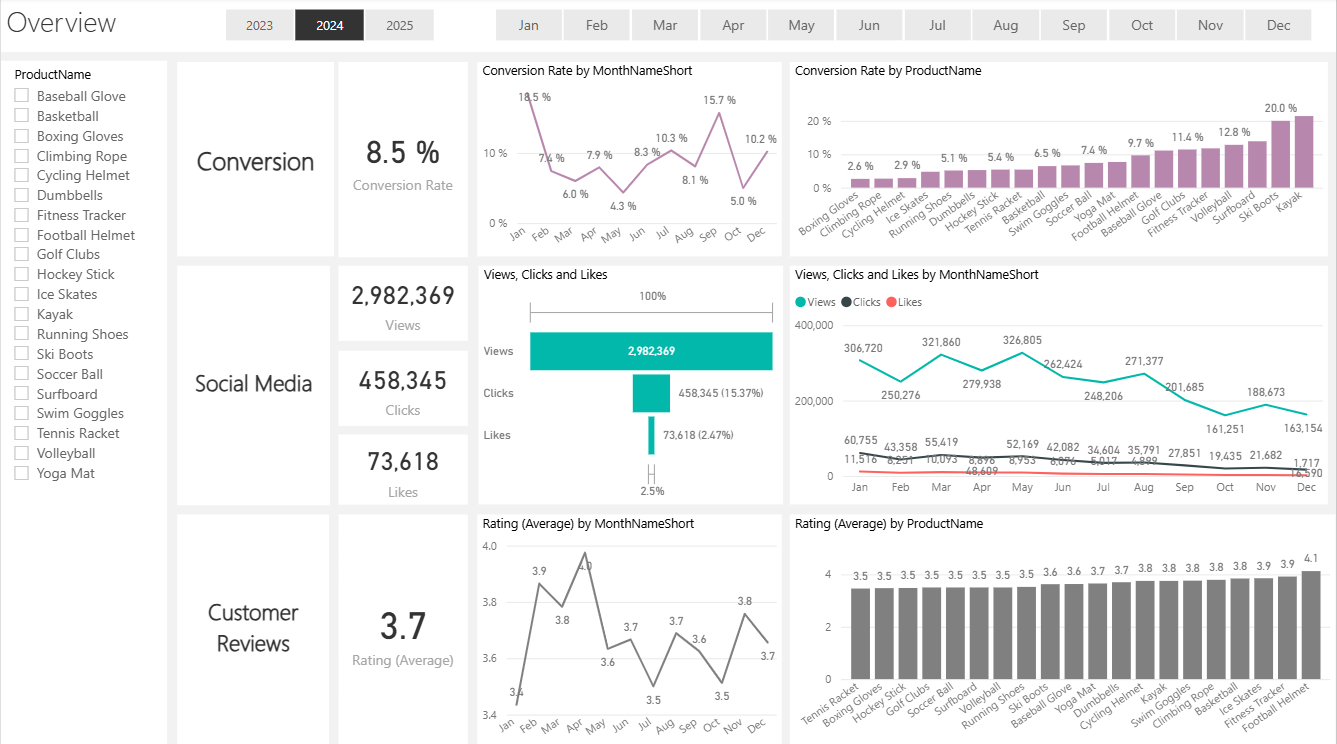

Layout of this report page (visuals, bound fields, positions):
{"tool":"powerbi","page":{"name":"Overview","canvas":[1280,720],"ordinal":0},"visuals":[{"type":"textbox","box":[0,0,1280,52.6],"z":0},{"type":"slicer","fields":{"Values":["dim_products.ProductName"]},"box":[0,61.6,159.5,658.5],"z":1000},{"type":"card","fields":{"Values":["_Calculations.Conversion Rate"]},"box":[324.1,61.9,123.9,186.8],"z":2000},{"type":"card","fields":{"Values":["_Calculations.Rating (Average)"]},"box":[324.1,496.5,123.9,224],"z":3000},{"type":"lineChart","fields":{"Category":["Calendar.MonthNameShort"],"Y":["_Calculations.Conversion Rate"]},"box":[457.1,61.9,292.3,186.7],"z":4000},{"type":"columnChart","fields":{"Category":["dim_products.ProductName"],"Y":["_Calculations.Conversion Rate"]},"box":[756.7,61.9,516.3,186.7],"z":5000},{"type":"slicer","fields":{"Values":["Calendar.Year"]},"box":[189.4,4.6,249.5,43.7],"z":6000},{"type":"slicer","fields":{"Values":["Calendar.MonthNameShort"]},"box":[448,4.6,832.3,43.7],"z":7000},{"type":"lineChart","fields":{"Category":["Calendar.MonthNameShort"],"Y":["_Calculations.Views","_Calculations.Clicks","_Calculations.Likes"]},"box":[756.6,258.1,516.1,229.2],"z":8000},{"type":"lineChart","fields":{"Category":["Calendar.MonthNameShort"],"Y":["_Calculations.Rating (Average)"]},"box":[457.1,496.3,292.3,224],"z":9000},{"type":"columnChart","fields":{"Category":["dim_products.ProductName"],"Y":["_Calculations.Rating (Average)"]},"box":[756.6,496.5,523.4,224],"z":10000},{"type":"funnel","fields":{"Y":["_Calculations.Views","_Calculations.Clicks","_Calculations.Likes"]},"box":[457.3,258.1,292.1,229.2],"z":11000},{"type":"card","fields":{"Values":["_Calculations.Views"]},"box":[324.2,257.7,123.8,71.9],"z":12000},{"type":"textbox","box":[168.5,61.9,150.3,186.7],"z":13000},{"type":"textbox","box":[168.5,257.7,146.6,229.5],"z":14000},{"type":"textbox","box":[168.5,496.3,145.7,224],"z":15000},{"type":"card","fields":{"Values":["_Calculations.Clicks"]},"box":[324.2,338.8,123.8,71.9],"z":16000},{"type":"card","fields":{"Values":["_Calculations.Likes"]},"box":[324.2,419.8,123.8,67.4],"z":17000}]}

Visuals, with their boxes in screenshot pixels (x1, y1, x2, y2), scaled from the page's 1280x720 canvas onto the 1337x744 screenshot:
textbox: (0, 0, 1336, 54)
slicer - dim_products.ProductName: (0, 64, 167, 743)
card - _Calculations.Conversion Rate: (339, 64, 468, 257)
card - _Calculations.Rating (Average): (339, 513, 468, 743)
lineChart - Calendar.MonthNameShort x _Calculations.Conversion Rate: (477, 64, 783, 257)
columnChart - dim_products.ProductName x _Calculations.Conversion Rate: (790, 64, 1330, 257)
slicer - Calendar.Year: (198, 5, 458, 50)
slicer - Calendar.MonthNameShort: (468, 5, 1336, 50)
lineChart - Calendar.MonthNameShort x _Calculations.Views: (790, 267, 1329, 504)
lineChart - Calendar.MonthNameShort x _Calculations.Rating (Average): (477, 513, 783, 743)
columnChart - dim_products.ProductName x _Calculations.Rating (Average): (790, 513, 1336, 743)
funnel - _Calculations.Views x _Calculations.Clicks: (478, 267, 783, 504)
card - _Calculations.Views: (339, 266, 468, 341)
textbox: (176, 64, 333, 257)
textbox: (176, 266, 329, 503)
textbox: (176, 513, 328, 743)
card - _Calculations.Clicks: (339, 350, 468, 424)
card - _Calculations.Likes: (339, 434, 468, 503)
